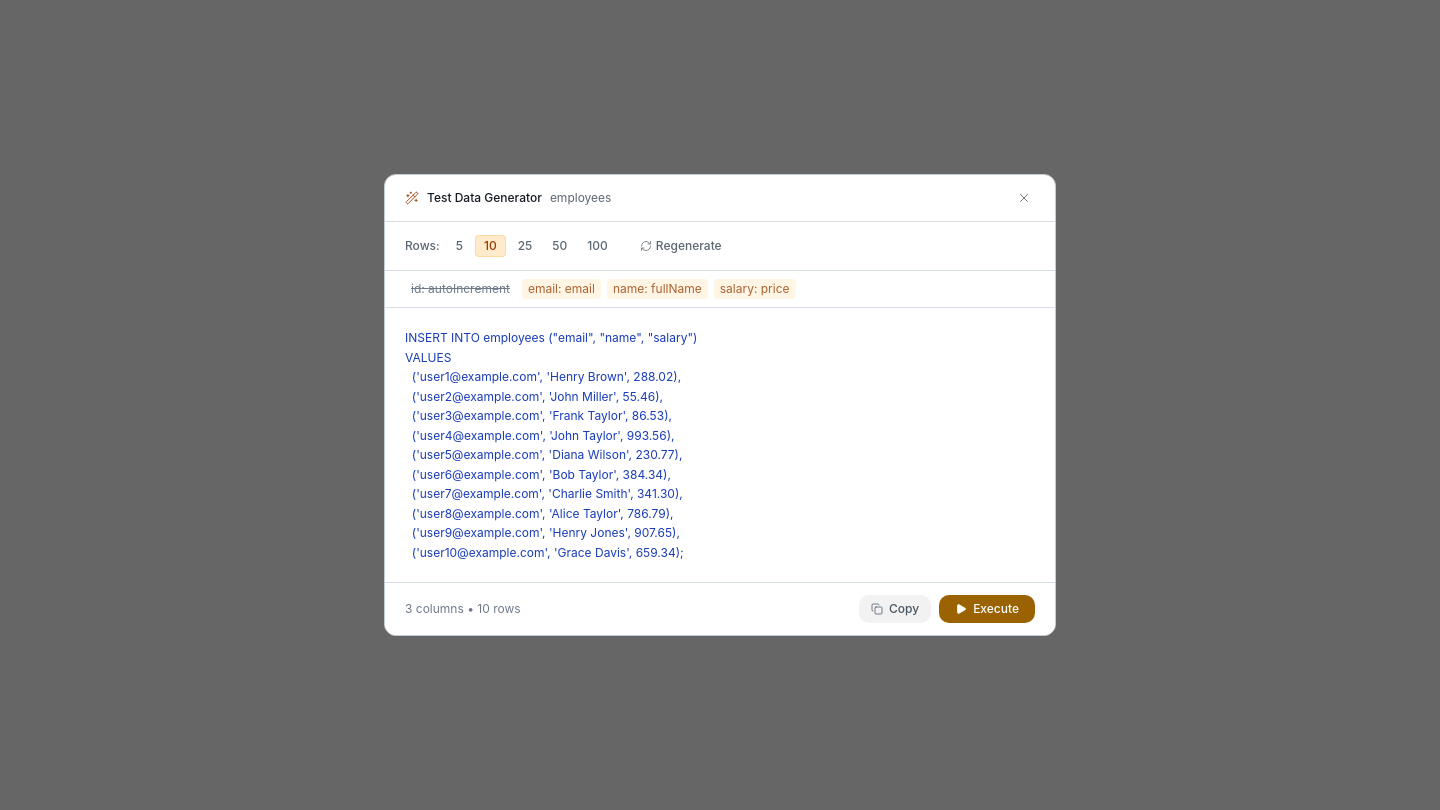
it: TestDataGenerator › does not claim a copy when both write paths refuse
Click the button with test id "test-data-copy" at (895, 609), box [859,595,931,623]
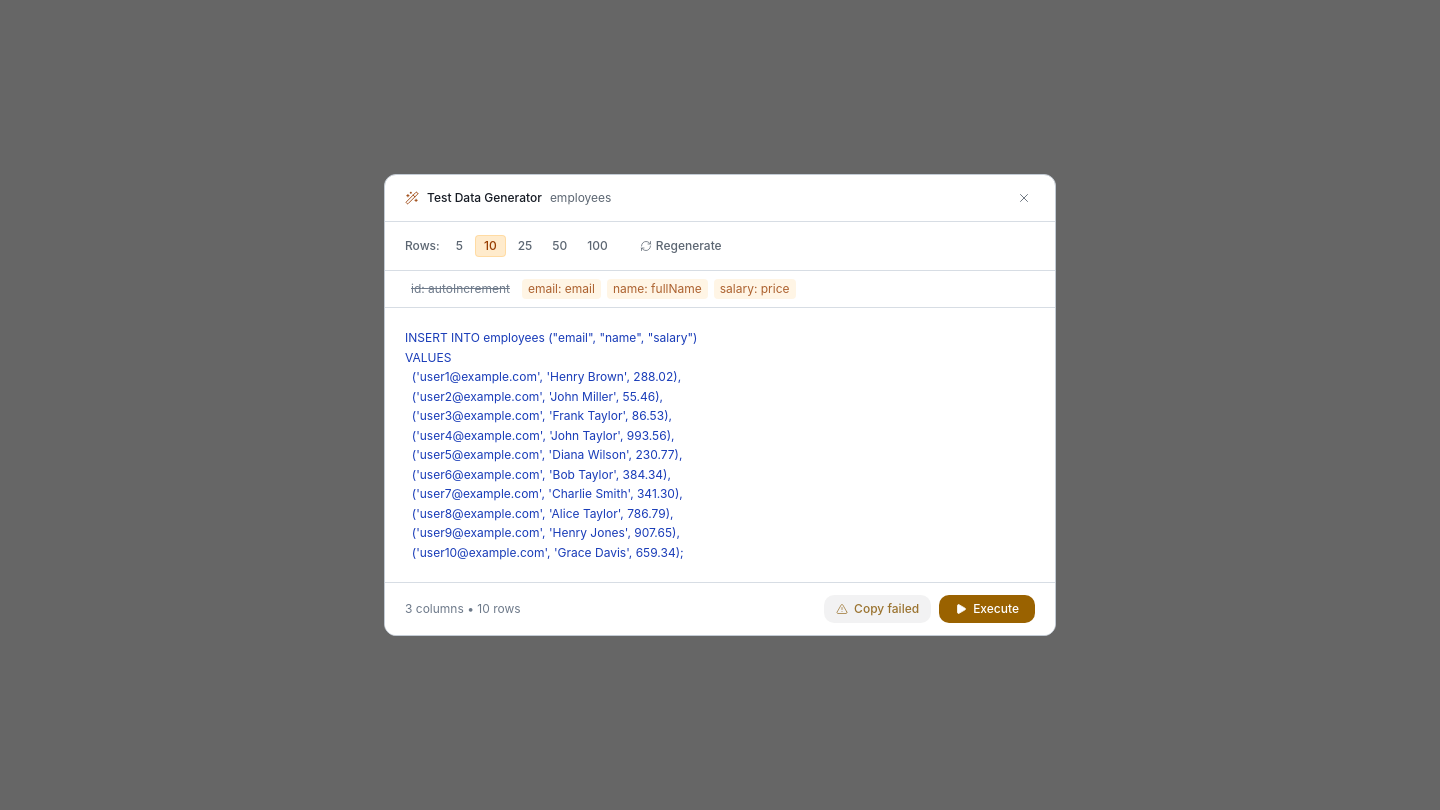
Check: the button with test id "test-data-copy" reads "Copy failed", box [824,595,931,623]
